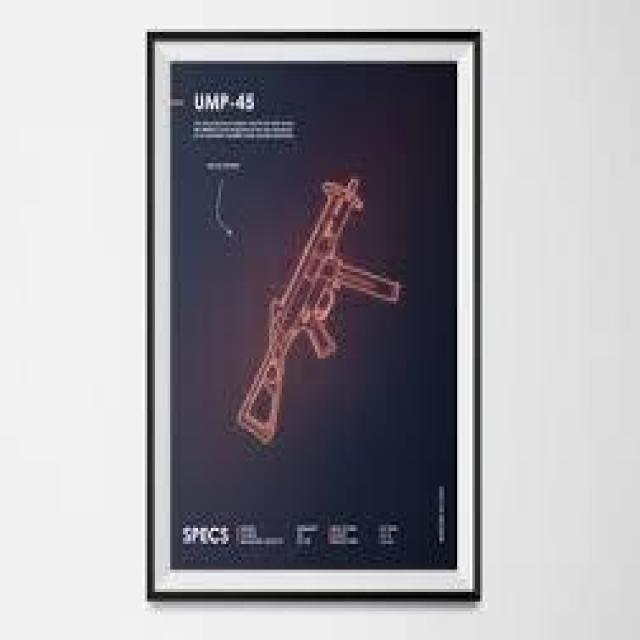Gun: (222, 160, 412, 459)
